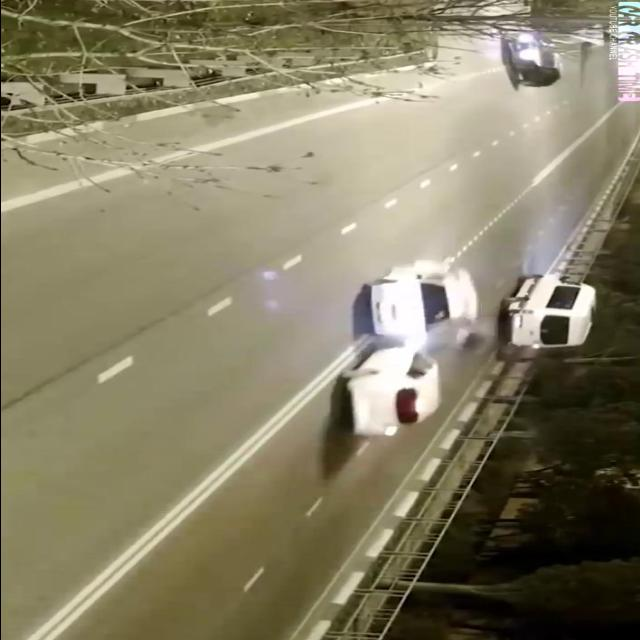accident: (330, 254, 502, 443)
